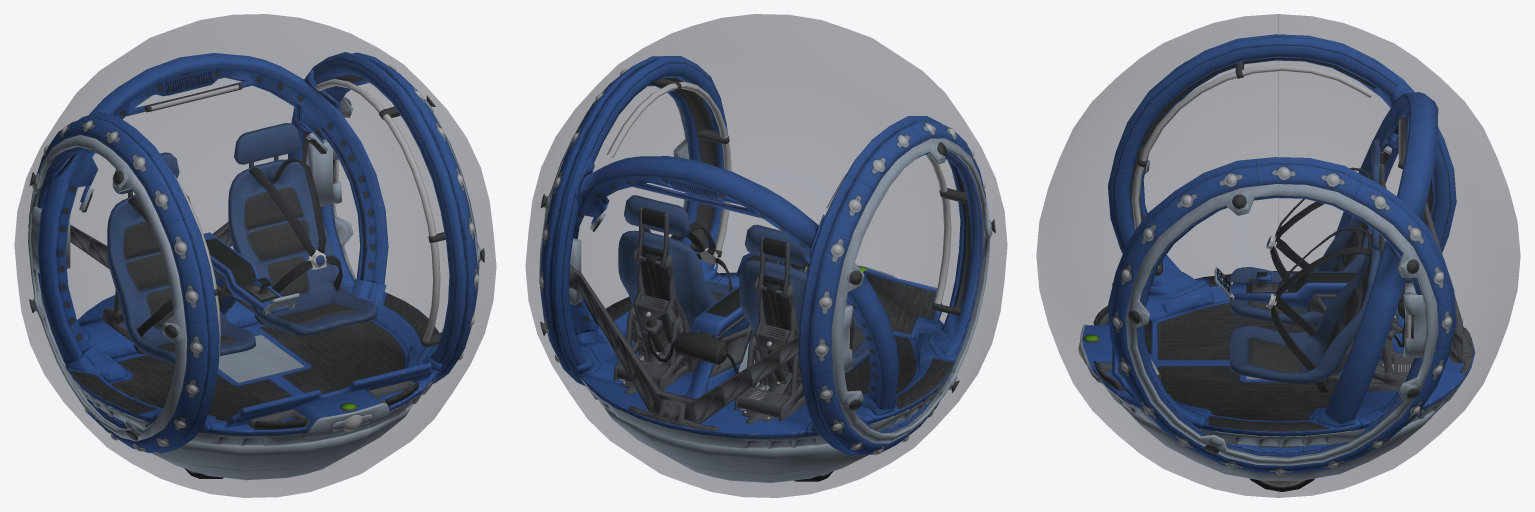
The model's file is jurassic_world_gyrosphere.glb.
3 renders of one model, left to right at view 1: azimuth 30°, elevation 25°; view 2: azimuth 150°, elevation 25°; view 3: azimuth 270°, elevation 25°, orthographic.
Visible parts, largest first — view 1: Object_4, Object_2, Object_3; view 2: Object_4, Object_2, Object_3; view 3: Object_4, Object_2, Object_3.
Boxes of the visible parts, x1,y1,x2,y2 form: Object_4: (14,14,496,497); Object_2: (28,52,484,480); Object_3: (128,158,342,353); Object_4: (525,14,1007,497); Object_2: (539,56,995,482); Object_3: (644,222,853,377); Object_4: (1036,14,1520,497); Object_2: (1078,33,1475,491); Object_3: (1266,167,1371,392).
Bounding box in the file's own units: 2.3 × 2.3 × 2.3.
Materials: 3 (3 with a texture image).
